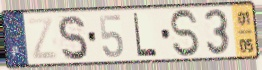3: (203, 7, 232, 57)
5: (98, 13, 126, 60)
L: (132, 11, 159, 58)
S: (168, 8, 203, 59), (56, 14, 90, 62)
Z: (25, 15, 60, 62)
